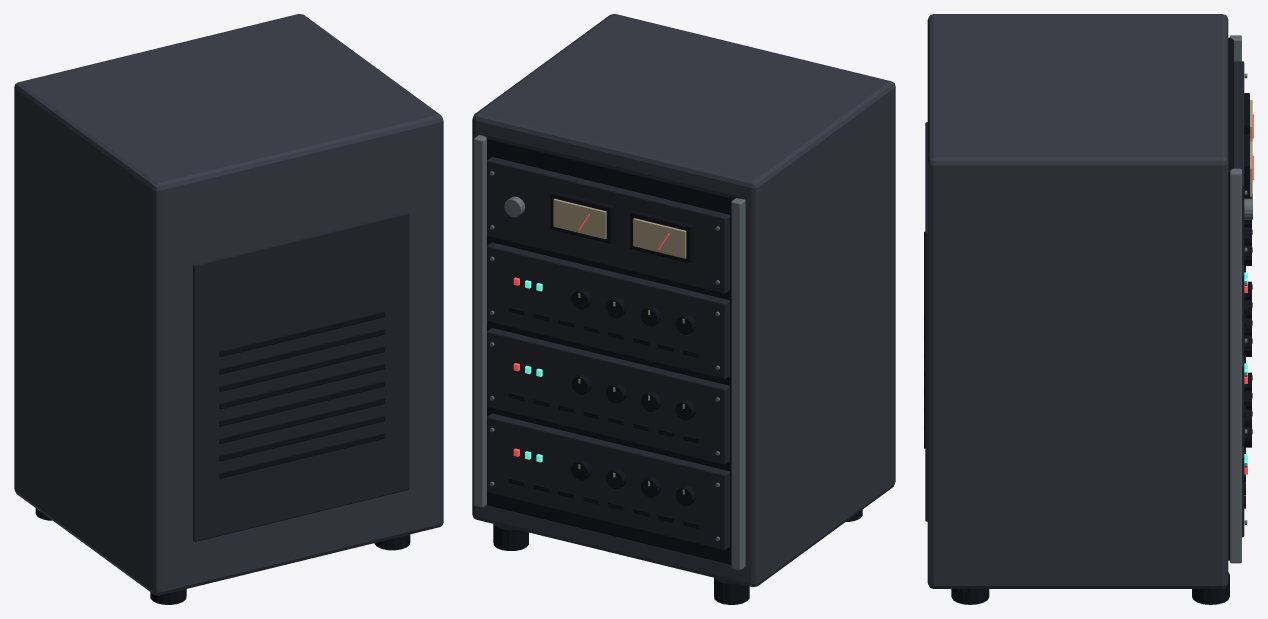
The model's file is audio_cabinet.glb.
3 views of the same model, side by side, from view 1: azimuth 30°, elevation 25°; view 2: azimuth 150°, elevation 25°; view 3: azimuth 270°, elevation 25° (orthographic). The views are drawn at different scales.
Visible parts, largest first — view 1: audio_cabinet; view 2: audio_cabinet; view 3: audio_cabinet.
Part boxes in pixels (<box>): audio_cabinet: <box>14,14,443,604</box>; audio_cabinet: <box>472,14,895,604</box>; audio_cabinet: <box>924,14,1253,604</box>.
Size of the model in its own units: 0.7 by 1 by 0.6583.
